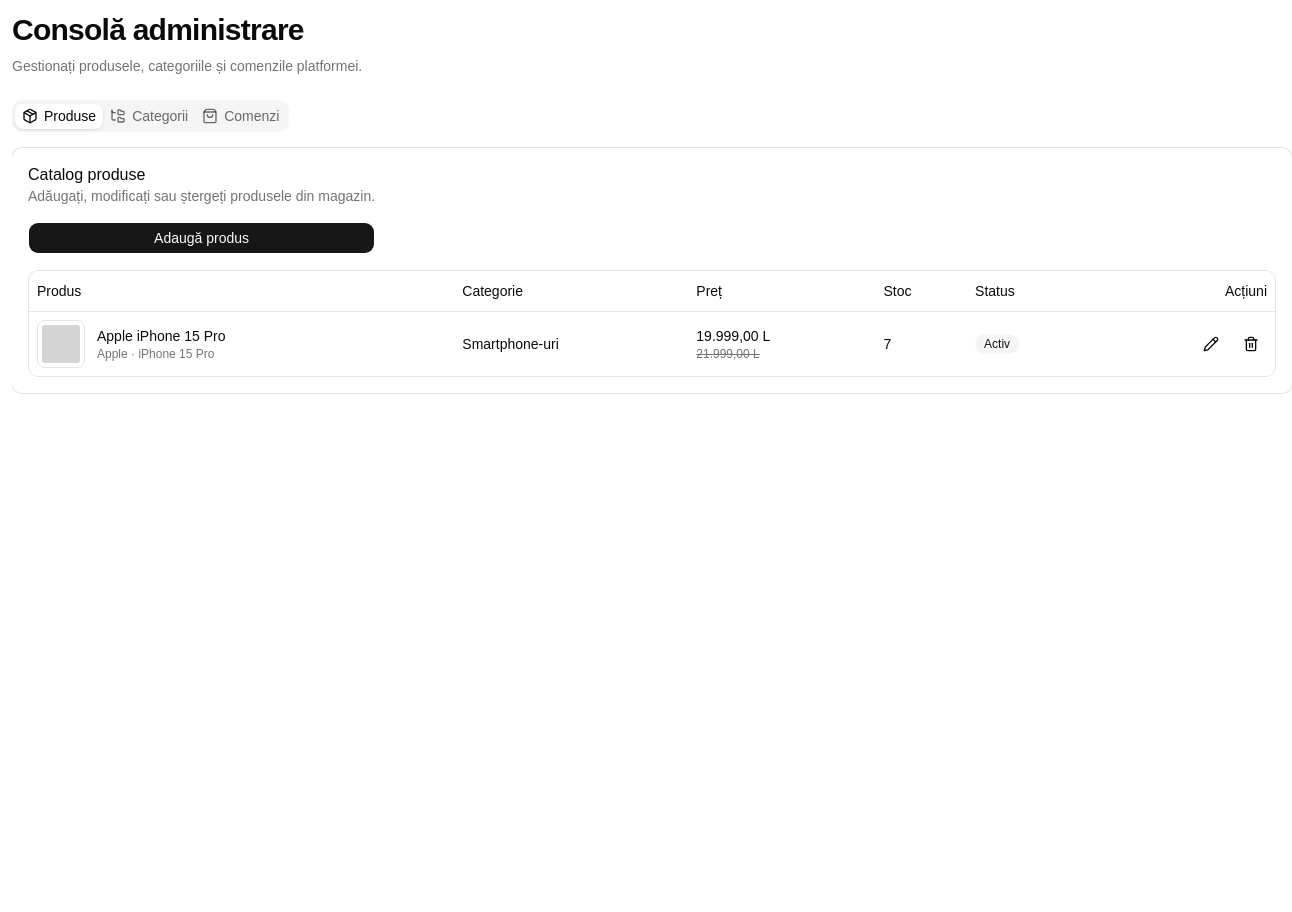
Test: AdminConsolePage › renders dedicated product, category, and order sections after the refactor
This screenshot has width=1292, height=912.
Expected: the text "Apple iPhone 15 Pro" is shown, [97,326,225,346]
Expected: the button "Adaugă produs" is shown, [28,222,375,254]
Click the tab "Categorii": (149, 116) [103,104,195,128]
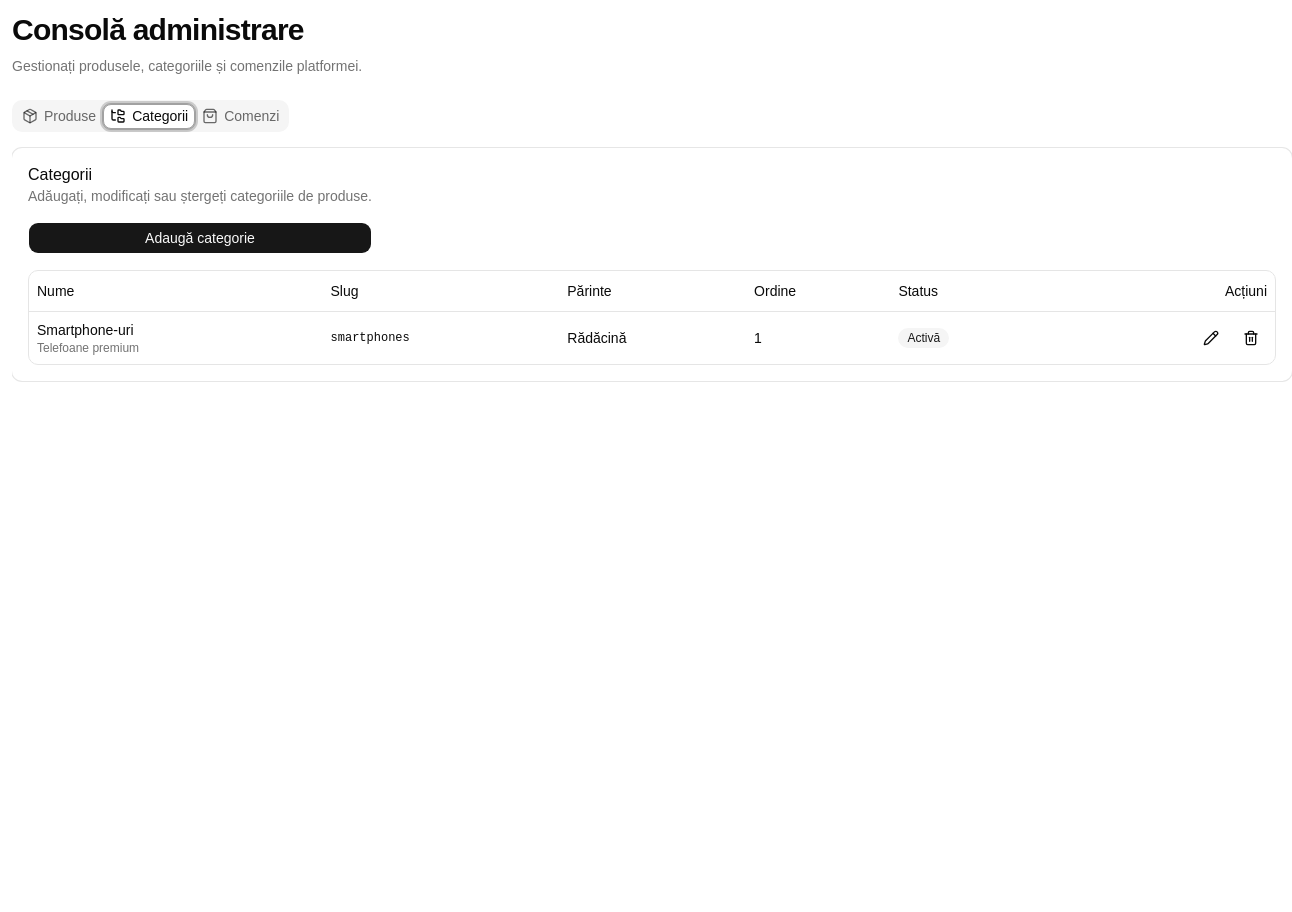
Expected: the text "Telefoane premium" is shown, [37,340,139,354]
Expected: the button "Adaugă categorie" is shown, [28,222,372,254]
Click the tab "Comenzi": (241, 116) [195,104,286,128]
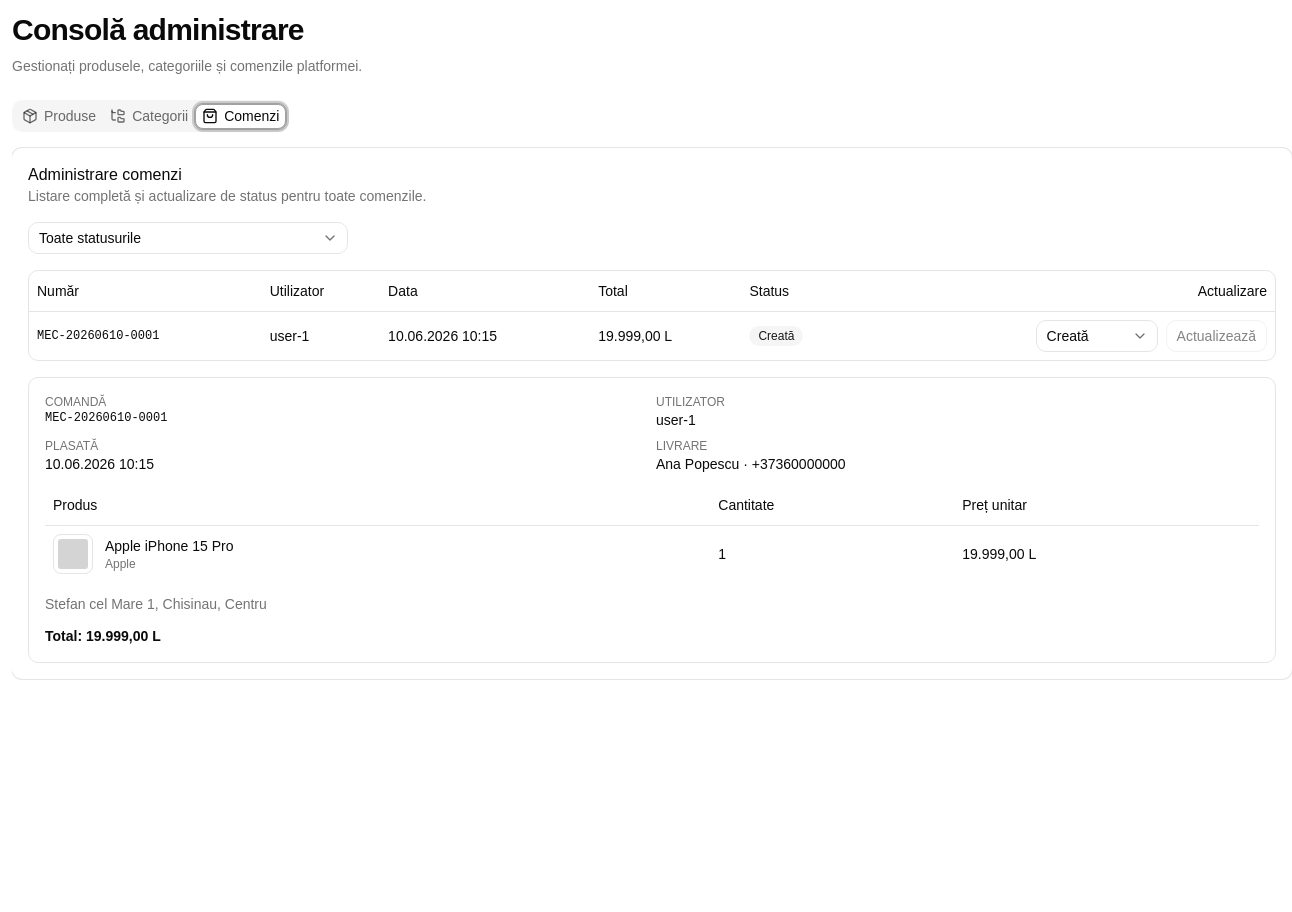
Expected: the cell "MEC-20260610-0001" is shown, [29,311,262,360]
Expected: the button "Actualizează" is shown, [1166,320,1267,352]
